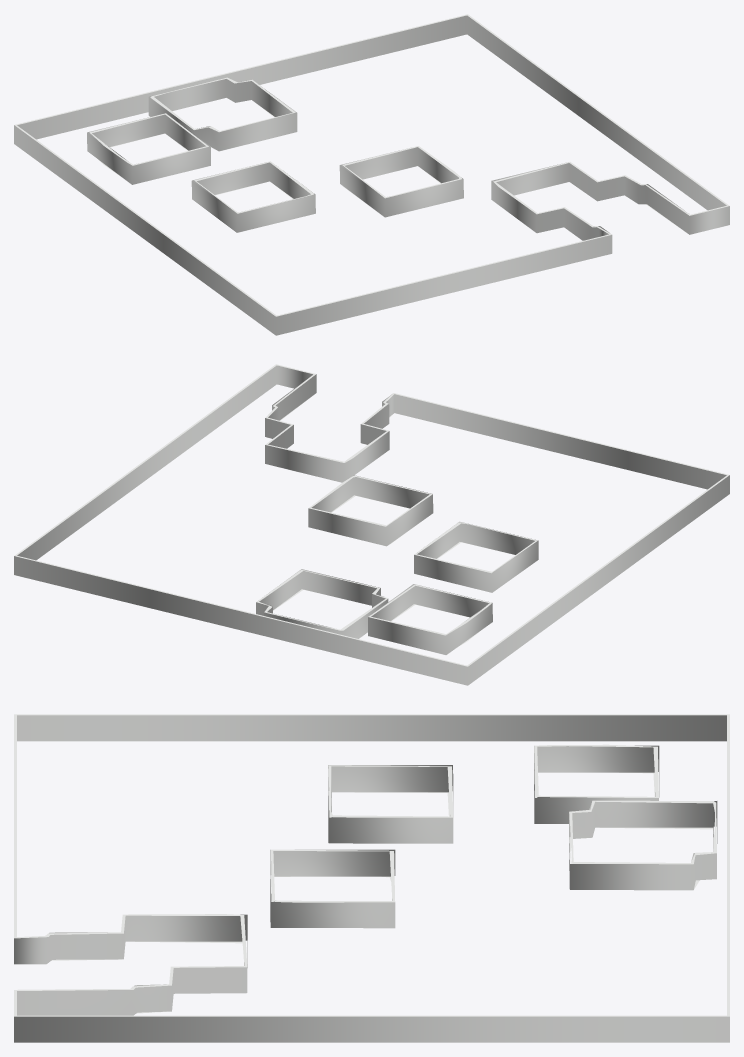
The model's file is _map2.dae.
3 views of the same model, one above another, from view 1: azimuth 30°, elevation 25°; view 2: azimuth 150°, elevation 25°; view 3: azimuth 270°, elevation 25° (orthographic). The views are drawn at different scales.
Visible parts, largest first — view 1: path12; view 2: path12; view 3: path12.
Part boxes in pixels (<box>): path12: <box>14,14,729,335</box>; path12: <box>14,364,729,685</box>; path12: <box>14,714,729,1042</box>.
Bounding box in the file's own units: 25 × 25 × 1.
Materials: 1 (1 with a texture image).
